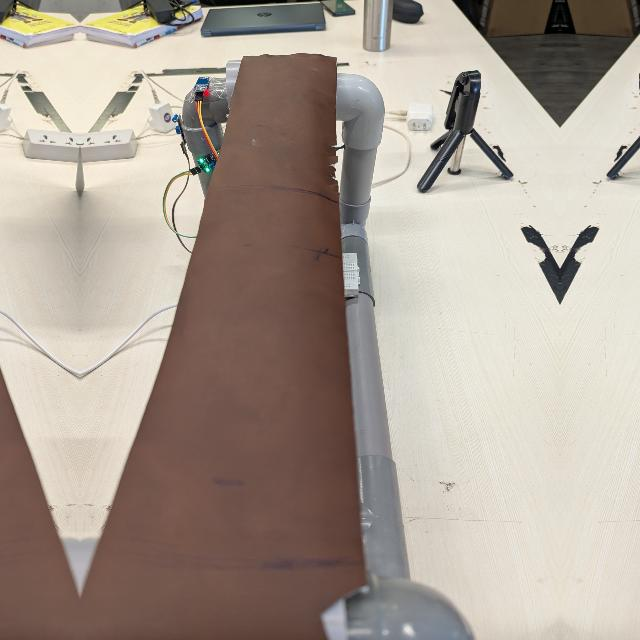belt_tear: (310, 559, 379, 640)
edge_damage: (315, 127, 345, 202)
